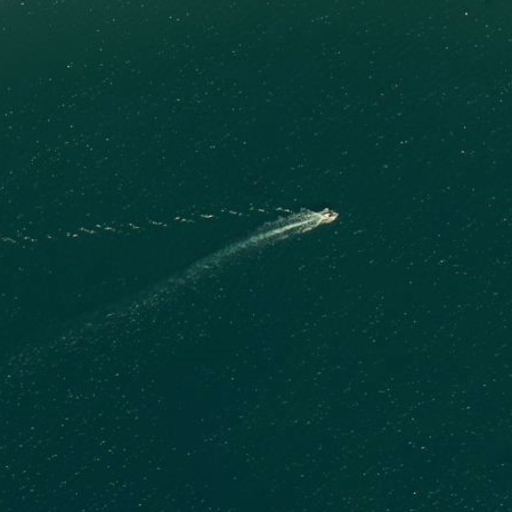ship: (314, 206, 340, 228)
